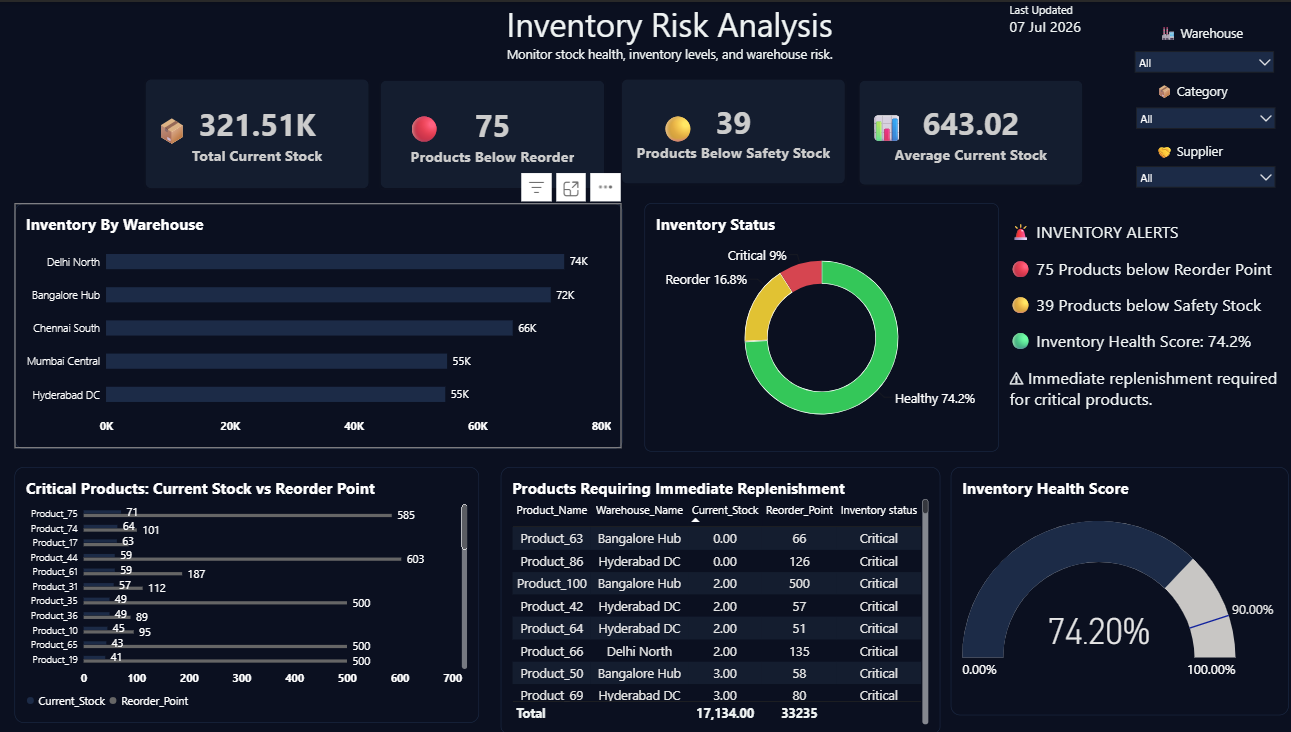

The page's visual inventory and layout, read from the dashboard file:
{"tool":"powerbi","page":{"name":"Inventory Risk Analysis","canvas":[1920,1080],"ordinal":2},"visuals":[{"type":"textbox","box":[554,0,887.3,97.4],"z":0},{"type":"cardVisual","fields":{"Data":["Dax measure.Total Current Stock"]},"box":[227.2,114.7,328.9,160.1],"z":1000},{"type":"cardVisual","fields":{"Data":["Dax measure.Products Below Reorder"]},"box":[572.4,116,329.4,158.3],"z":2000},{"type":"cardVisual","fields":{"Data":["Dax measure.Products Below Safety Stock"]},"box":[928.4,114.7,328.9,153.7],"z":3000},{"type":"cardVisual","fields":{"Data":["Dax measure.Average Current Stock"]},"box":[1276.4,115.1,328.9,153.7],"z":4000},{"type":"textbox","box":[1291.6,158.4,60.6,71.4],"z":5000},{"type":"textbox","box":[984.7,160.1,60.6,51.9],"z":6000},{"type":"textbox","box":[610.3,160.1,60.6,62.8],"z":7000},{"type":"textbox","box":[239.3,163.8,60.7,57.1],"z":8000},{"type":"clusteredBarChart","title":"Inventory By Warehouse","fields":{"Y":["Sum(Inventory.Current_Stock)"],"Category":["Warehouses.Warehouse_Name"]},"box":[32.5,296.5,896,361.4],"z":9000},{"type":"donutChart","title":"Inventory Status","fields":{"Category":["Inventory.Inventory status"],"Y":["CountNonNull(Inventory.Product_ID)"]},"box":[960.9,296.5,521.6,365.7],"z":10000},{"type":"clusteredBarChart","title":"Critical Products: Current Stock vs Reorder Point","fields":{"Category":["Products.Product_Name"],"Y":["Sum(Inventory.Current_Stock)","Sum(Inventory.Reorder_Point)"]},"box":[32.5,683.9,683.9,376.6],"z":11000},{"type":"tableEx","title":"Products Requiring Immediate Replenishment","fields":{"Values":["Products.Product_Name","Warehouses.Warehouse_Name","Sum(Inventory.Current_Stock)","Sum(Inventory.Reorder_Point)","Inventory.Inventory status"]},"box":[748.8,683.9,647.1,396],"z":12000},{"type":"gauge","title":"Inventory Health Score","fields":{"Y":["Dax measure.Healthy %"],"TargetValue":["Dax measure.Target"]},"box":[1411,683.9,497.8,365.7],"z":13000},{"type":"slicer","fields":{"Values":["Warehouses.Warehouse_Name"]},"box":[1662.1,54.1,246.7,84.4],"z":14000},{"type":"textbox","box":[1718.3,32.5,134.2,43.3],"z":15000},{"type":"slicer","fields":{"Values":["Products.Category"]},"box":[1663.4,135.5,246.7,101.7],"z":16000},{"type":"textbox","box":[1713.1,118.2,134.2,34.6],"z":17000},{"type":"slicer","fields":{"Values":["Shipments.Supplier_ID"]},"box":[1664.2,222.9,246.7,101.7],"z":18000},{"type":"textbox","box":[1714,205.6,112.5,34.6],"z":19000},{"type":"textbox","box":[1497.6,322.5,411.2,287.8],"z":20000},{"type":"textbox","box":[1498.2,0,123.3,71.8],"z":20001}]}

Visuals, with their boxes in screenshot pixels (x1, y1, x2, y2), scaled from the page's 1920x1080 canvas onto the 1291x732 screenshot:
textbox: [373, 0, 969, 66]
cardVisual - Dax measure.Total Current Stock: [153, 78, 374, 186]
cardVisual - Dax measure.Products Below Reorder: [385, 79, 606, 186]
cardVisual - Dax measure.Products Below Safety Stock: [624, 78, 845, 182]
cardVisual - Dax measure.Average Current Stock: [858, 78, 1079, 182]
textbox: [868, 107, 909, 156]
textbox: [662, 109, 703, 144]
textbox: [410, 109, 451, 151]
textbox: [161, 111, 202, 150]
"Inventory By Warehouse" clusteredBarChart: [22, 201, 624, 446]
"Inventory Status" donutChart: [646, 201, 997, 449]
"Critical Products: Current Stock vs Reorder Point" clusteredBarChart: [22, 464, 482, 719]
"Products Requiring Immediate Replenishment" tableEx: [503, 464, 939, 731]
"Inventory Health Score" gauge: [949, 464, 1283, 711]
slicer - Warehouses.Warehouse_Name: [1118, 37, 1283, 94]
textbox: [1155, 22, 1246, 51]
slicer - Products.Category: [1118, 92, 1284, 161]
textbox: [1152, 80, 1242, 104]
slicer - Shipments.Supplier_ID: [1119, 151, 1285, 220]
textbox: [1152, 139, 1228, 163]
textbox: [1007, 219, 1283, 414]
textbox: [1007, 0, 1090, 49]
